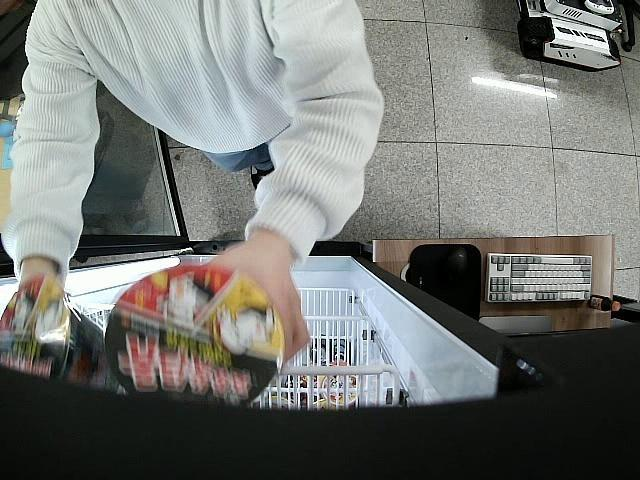07_buldak_L: (104, 265, 285, 406)
